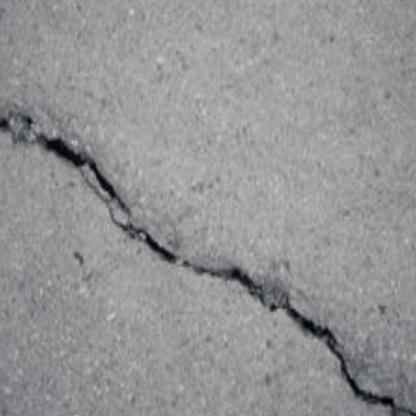Cracks: (0, 109, 416, 416)
